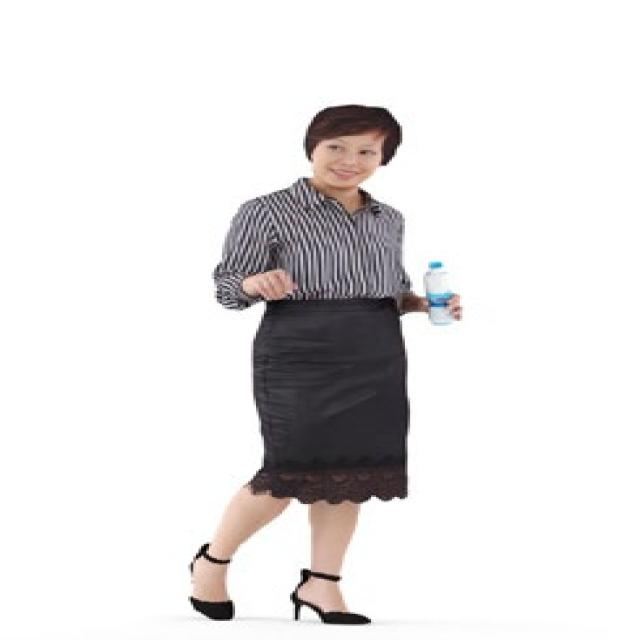standing: (178, 99, 474, 627)
